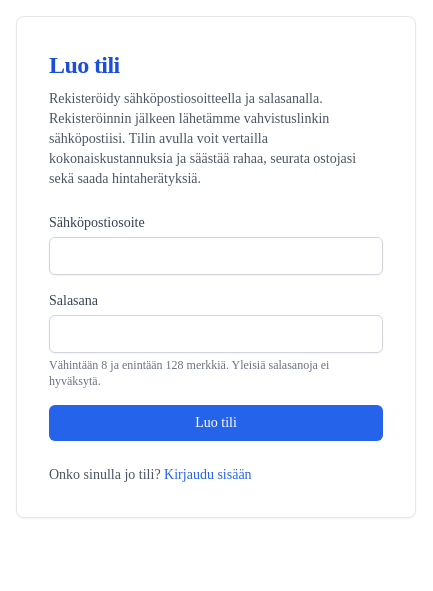
Test: RegisterPage › maps a 400 InvalidPassword to the policy message
This screenshot has width=433, height=591.
Type "kayttaja@example.fi" into the field labelled "Sähköpostiosoite" at (216, 256), box [49,237,383,275]
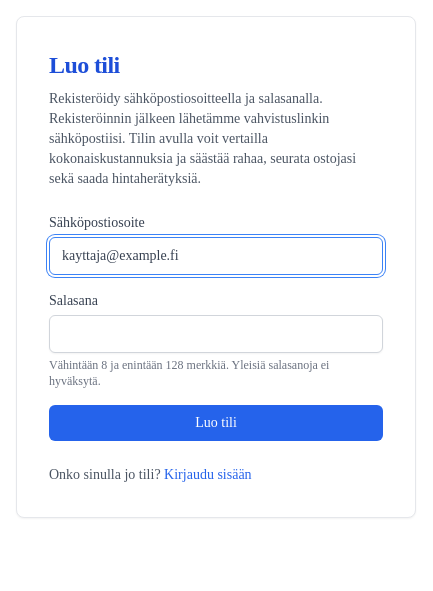
Type "liianlyhyt" into the password field labelled "Salasana" at (216, 334), box [49,315,383,353]
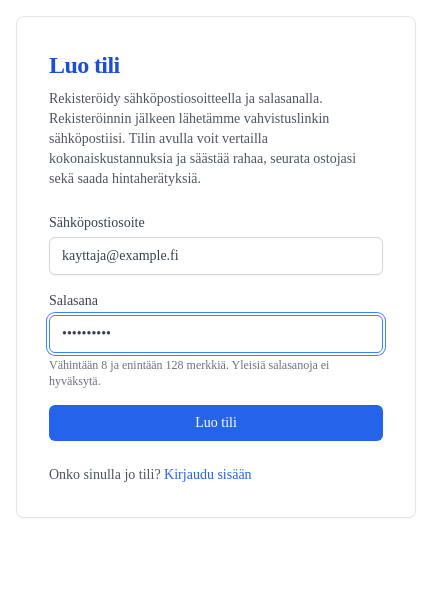
Click the button with test id "register-submit" at (216, 423), box [49,405,383,441]
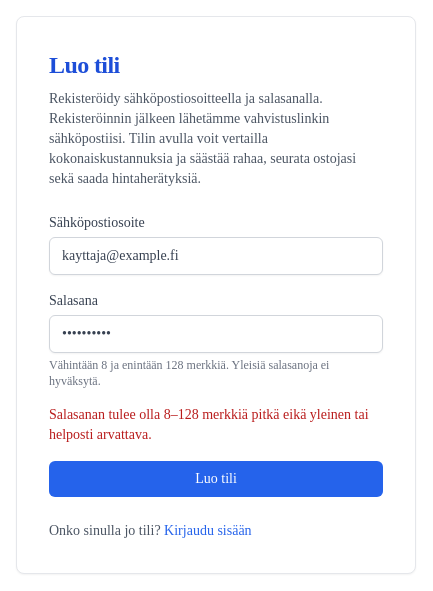
Now the message with test id "register-failure" reads "Salasanan tulee olla 8–128 merkkiä pitkä eikä yleinen tai helposti arvattava.", box [49,407,369,442]
